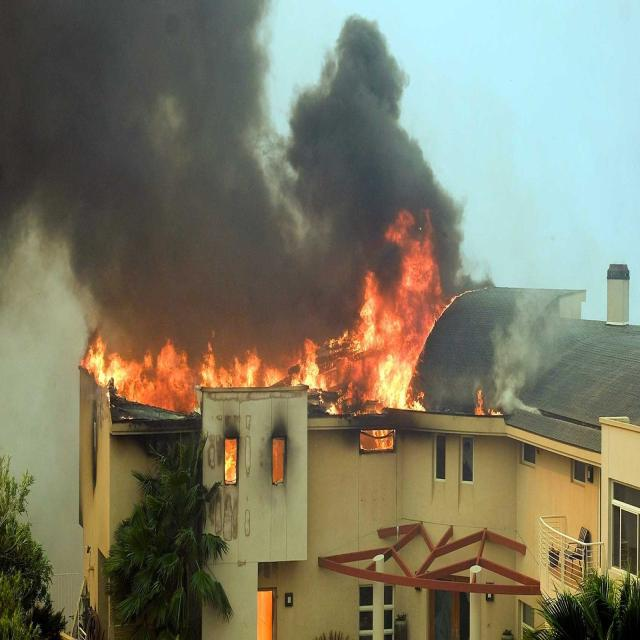fire: (86, 334, 331, 402), (358, 281, 422, 410)
